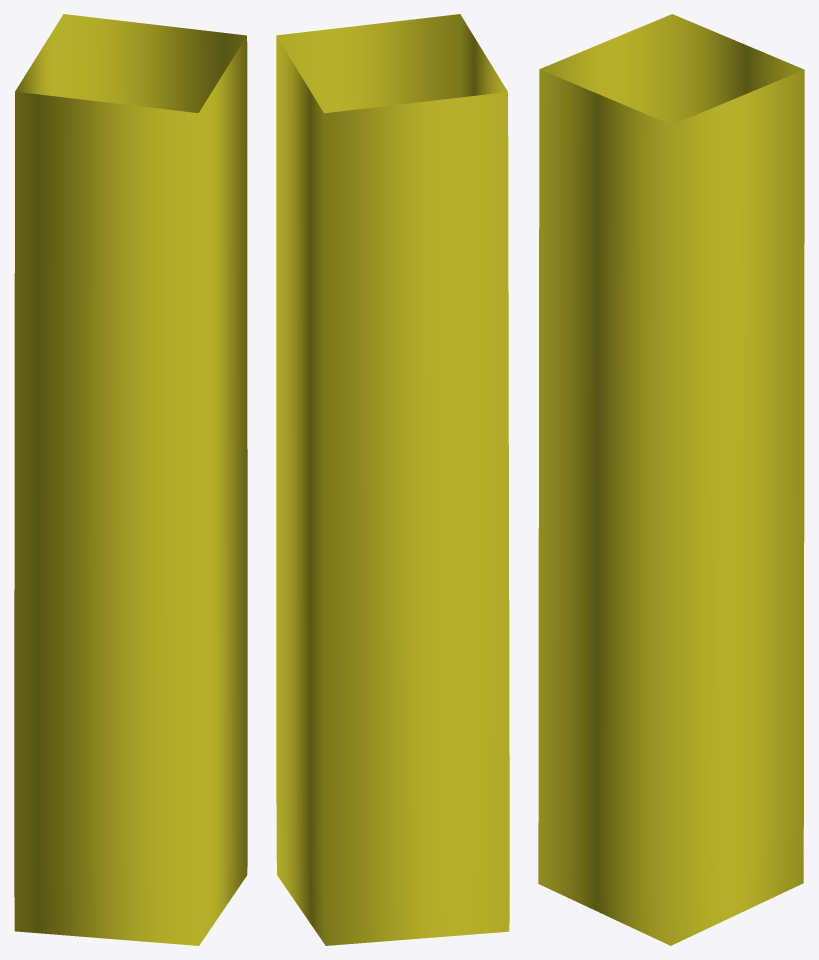
Rendered from Thigh.obj.
3 views of the same model, side by side, from view 1: azimuth 30°, elevation 25°; view 2: azimuth 150°, elevation 25°; view 3: azimuth 270°, elevation 25° (orthographic). The views are drawn at different scales.
Bounding box in the file's own units: 0.3857 × 1.33 × 0.3897.
Materials: 1 (1 with a texture image).
